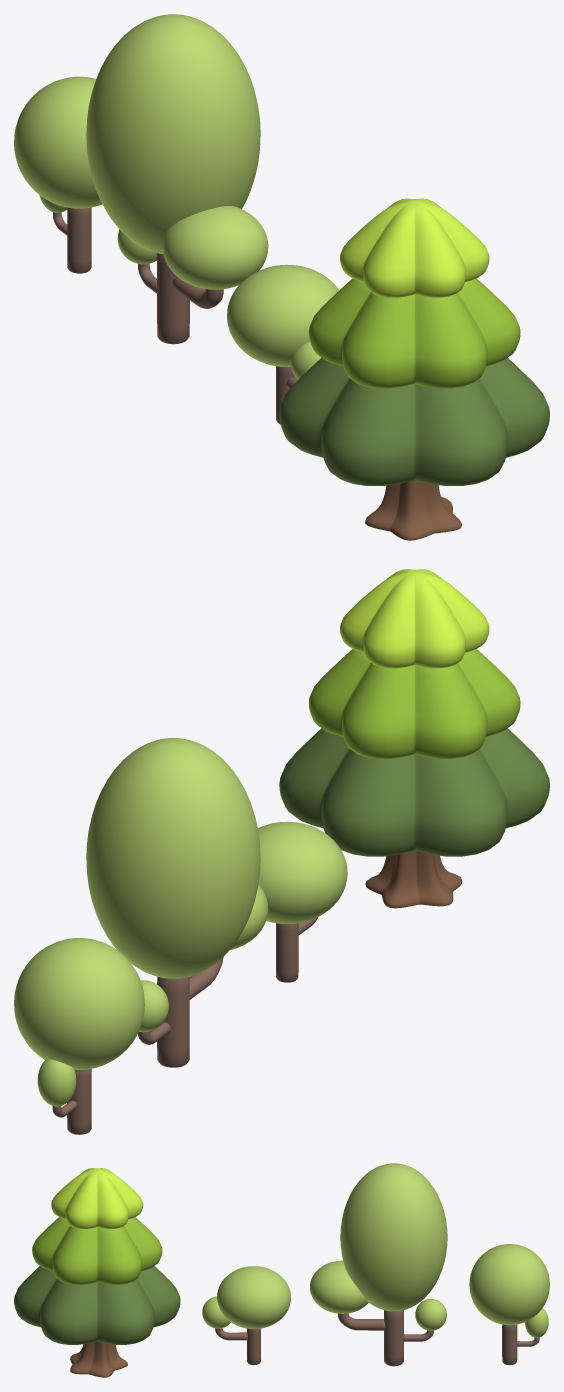
Rendered from trees(1).fbx.
The picture shows the model from 3 angles, top to bottom: view 1: azimuth 30°, elevation 25°; view 2: azimuth 150°, elevation 25°; view 3: azimuth 270°, elevation 25°; orthographic projection. The views are drawn at different scales.
Visible parts, largest first — view 1: leaf.001, pine leaves, pine leaves.001, pine leaves.002, leaf.005, leaf.004, leaf.002, pine trunk, trunk, trunk.005, trunk.001, leaf.003 (+1 smaller); view 2: leaf.001, pine leaves, pine leaves.001, leaf.005, pine leaves.002, leaf.004, pine trunk, trunk, leaf.007, trunk.003, trunk.005, leaf.003 (+1 smaller); view 3: leaf.001, pine leaves, pine leaves.001, leaf.005, pine leaves.002, leaf.004, leaf.002, pine trunk, trunk, leaf.003, trunk.005, leaf (+4 smaller).
Boxes of the visible parts, x1,y1,x2,y2 form: leaf.001: (86,14,260,254); pine leaves: (279,357,549,485); pine leaves.001: (308,278,520,388); pine leaves.002: (340,198,489,297); leaf.005: (14,76,102,208); leaf.004: (227,264,339,367); leaf.002: (162,206,268,289); pine trunk: (365,480,461,540); trunk: (157,253,189,344); trunk.005: (67,207,91,273); trunk.001: (172,276,223,308); leaf.003: (117,229,157,264); leaf.001: (86,738,260,978); pine leaves: (279,728,549,856); pine leaves.001: (309,649,520,758); leaf.005: (14,938,144,1069); pine leaves.002: (340,569,489,668); leaf.004: (258,821,347,923); pine trunk: (365,851,462,908); trunk: (157,976,189,1067); leaf.007: (37,1059,76,1106); trunk.003: (276,923,298,982); trunk.005: (67,1069,91,1134); leaf.003: (139,980,168,1032); leaf.001: (340,1163,447,1311); pine leaves: (14,1266,180,1344); pine leaves.001: (32,1217,162,1284); leaf.005: (469,1244,549,1325); pine leaves.002: (51,1168,143,1228); leaf.004: (216,1266,290,1328); leaf.002: (310,1260,368,1313); pine trunk: (70,1341,127,1377); trunk: (384,1310,403,1366); leaf.003: (415,1299,446,1330); trunk.005: (502,1324,517,1365); leaf: (202,1296,230,1328).
Size of the model in its own units: 2147 by 3120 by 7607.
